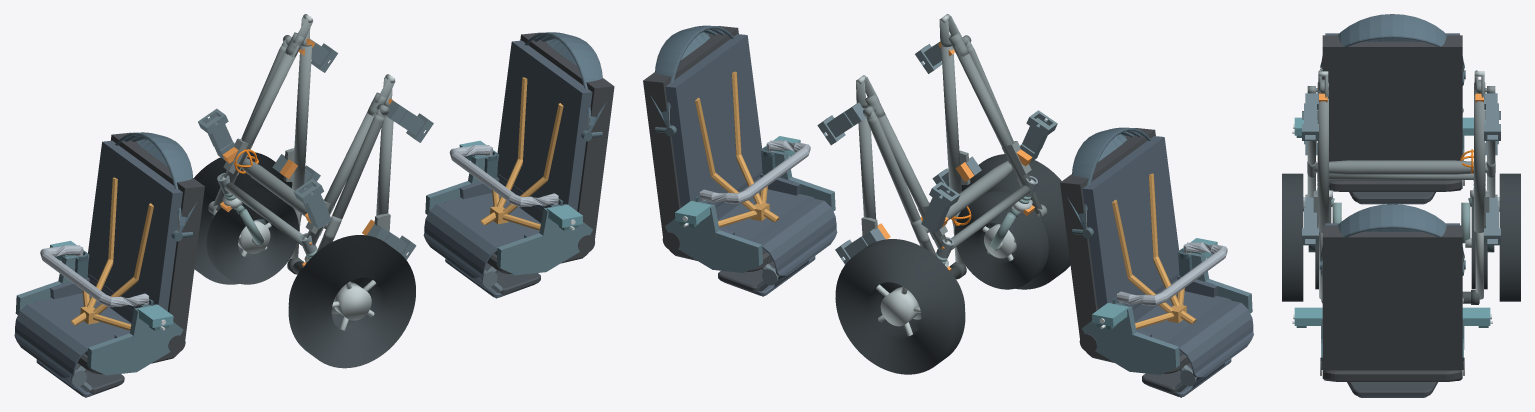
File: D02_w550_state3_wheel_L.glb
3 renders of one model, left to right at view 1: azimuth 30°, elevation 25°; view 2: azimuth 150°, elevation 25°; view 3: azimuth 270°, elevation 25°, orthographic. The views are drawn at different scales.
Visible parts, largest first — view 1: D02_Rear_Backrest, D02_Front_Backrest, RL_tire.004, FR_tire.004, D02_Rear, D02_Front, D02_Rear_Shell, D02_Front_Shell, D02_Front_KneeCover, D02_Rear_KneeCover, RR_tire.004, main_upper_1.005 (+22 smaller); view 2: D02_Rear_Backrest, D02_Front_Backrest, RR_tire.004, FL_tire.004, D02_Rear, D02_Front, D02_Rear_Shell, D02_Front_Shell, RL_tire.004, D02_Front_KneeCover, D02_Rear_KneeCover, main_upper_-1.005 (+22 smaller); view 3: D02_Front_Backrest, D02_Rear_Backrest, RL_tire.004, RR_tire.004, D02_Rear_Canopy, D02_Front_Canopy, V46_rearbar.005, D02_Front_Shell, D02_Rear_Shell, main_upper_1.005, main_upper_-1.005, D02_Front (+16 smaller).
Boxes of the visible parts, left/top/right/bottom form: D02_Rear_Backrest: left=87, top=132, right=204, bottom=339; D02_Front_Backrest: left=497, top=32, right=614, bottom=239; RL_tire.004: left=288, top=235, right=415, bottom=368; FR_tire.004: left=206, top=188, right=298, bottom=284; D02_Rear: left=15, top=240, right=183, bottom=375; D02_Front: left=425, top=140, right=592, bottom=275; D02_Rear_Shell: left=35, top=251, right=185, bottom=374; D02_Front_Shell: left=445, top=151, right=595, bottom=273; D02_Front_KneeCover: left=423, top=202, right=502, bottom=298; D02_Rear_KneeCover: left=14, top=302, right=93, bottom=397; RR_tire.004: left=194, top=152, right=301, bottom=284; main_upper_1.005: left=292, top=45, right=311, bottom=190; D02_Rear_Backrest: left=1060, top=128, right=1179, bottom=338; D02_Front_Backrest: left=643, top=26, right=762, bottom=236; RR_tire.004: left=835, top=239, right=965, bottom=374; FL_tire.004: left=954, top=191, right=1048, bottom=289; D02_Rear: left=1082, top=238, right=1252, bottom=374; D02_Front: left=665, top=136, right=835, bottom=272; D02_Rear_Shell: left=1079, top=248, right=1232, bottom=373; D02_Front_Shell: left=662, top=146, right=815, bottom=271; RL_tire.004: left=952, top=154, right=1070, bottom=289; D02_Front_KneeCover: left=756, top=199, right=837, bottom=296; D02_Rear_KneeCover: left=1173, top=301, right=1253, bottom=397; main_upper_-1.005: left=941, top=46, right=961, bottom=193; D02_Front_Backrest: left=1322, top=223, right=1462, bottom=370; D02_Rear_Backrest: left=1322, top=33, right=1462, bottom=161; RL_tire.004: left=1282, top=173, right=1303, bottom=301; RR_tire.004: left=1499, top=173, right=1520, bottom=301; D02_Rear_Canopy: left=1320, top=14, right=1465, bottom=71; D02_Front_Canopy: left=1320, top=204, right=1465, bottom=261; V46_rearbar.005: left=1314, top=160, right=1488, bottom=174; D02_Front_Shell: left=1320, top=357, right=1464, bottom=381; D02_Rear_Shell: left=1329, top=180, right=1464, bottom=191; main_upper_1.005: left=1474, top=98, right=1485, bottom=232; main_upper_-1.005: left=1317, top=98, right=1328, bottom=232; D02_Front: left=1292, top=307, right=1492, bottom=369.
Size of the model in its own units: 1.68 by 0.7725 by 0.671.
